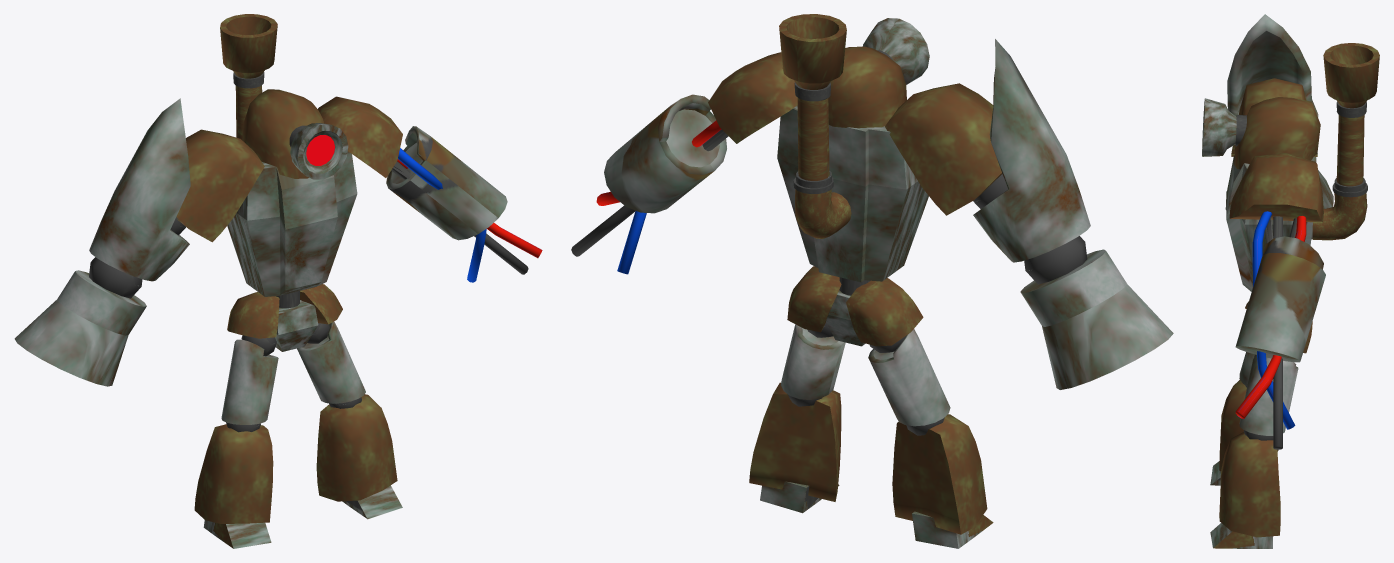
Rendered from gunner.fbx.
3 renders of one model, left to right at view 1: azimuth 30°, elevation 25°; view 2: azimuth 150°, elevation 25°; view 3: azimuth 270°, elevation 25°, orthographic. The views are drawn at different scales.
Visible parts, largest first — view 1: Gunner; view 2: Gunner; view 3: Gunner.
Part boxes in pixels (x1,y1,x2,y2): Gunner: (14, 14, 542, 548); Gunner: (571, 14, 1173, 548); Gunner: (1202, 14, 1379, 548).
Size of the model in its own units: 2.41 by 2.07 by 0.7353.
